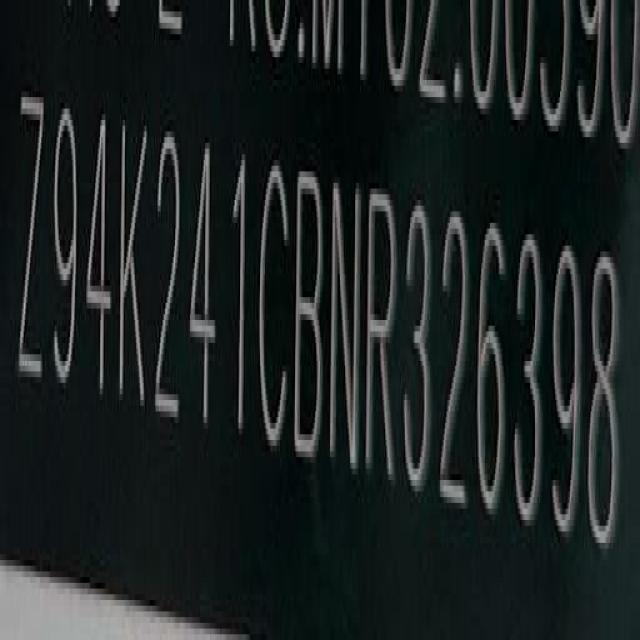1: (228, 148, 250, 448)
2: (441, 208, 472, 512), (154, 125, 182, 431)
3: (516, 230, 546, 534), (405, 200, 435, 500)
4: (190, 132, 220, 438), (86, 104, 114, 403)
6: (478, 219, 508, 521)
8: (587, 245, 618, 548)
9: (550, 239, 582, 543), (49, 98, 77, 400)
B: (298, 164, 328, 470)
C: (256, 160, 291, 459)
K: (118, 114, 150, 414)
N: (329, 170, 362, 476)
R: (366, 182, 399, 482)
Z: (18, 88, 46, 392)
